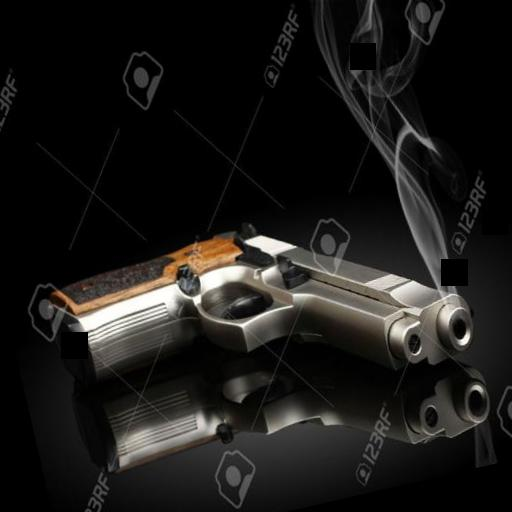Handgun: (36, 176, 479, 448)
